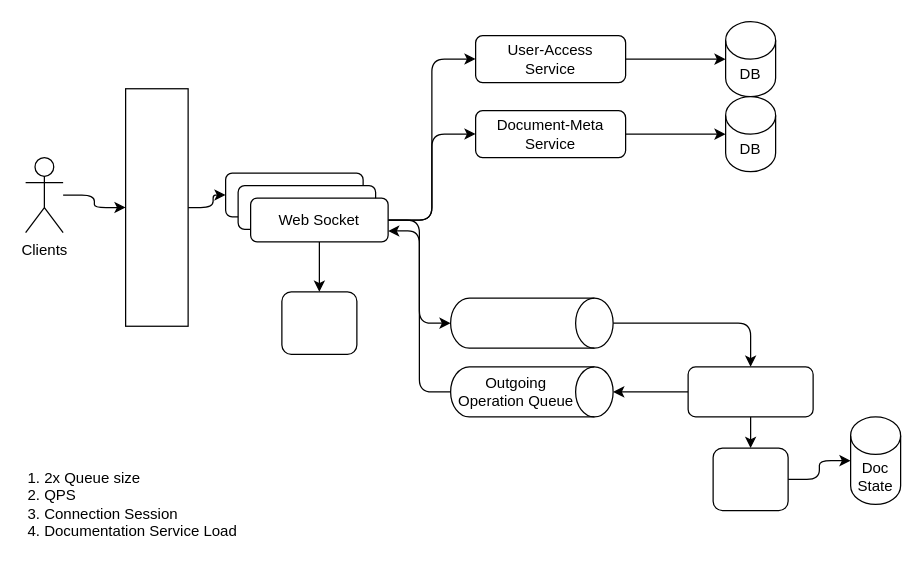
The diagram is 923 pixels wide and 563 high, and some of its shapes have lost their labels. The box of each missing label's shape, as (x1, y1, x2, y2) in pixels:
Cache state: (712, 447, 788, 511)
Documentaion Service XN: (687, 366, 813, 417)
Incomming Operation Queue: (449, 297, 613, 348)
LB sticky session: (124, 88, 188, 326)
Session Cache: (281, 291, 357, 354)
